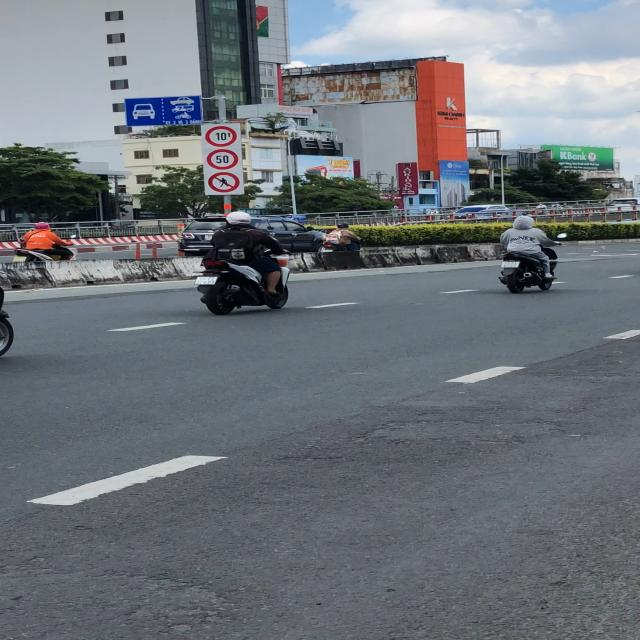Bien bao cam nguoi di bo: (207, 171, 241, 193)
Bien bao toc do toi da cho phep: (206, 148, 242, 170)
